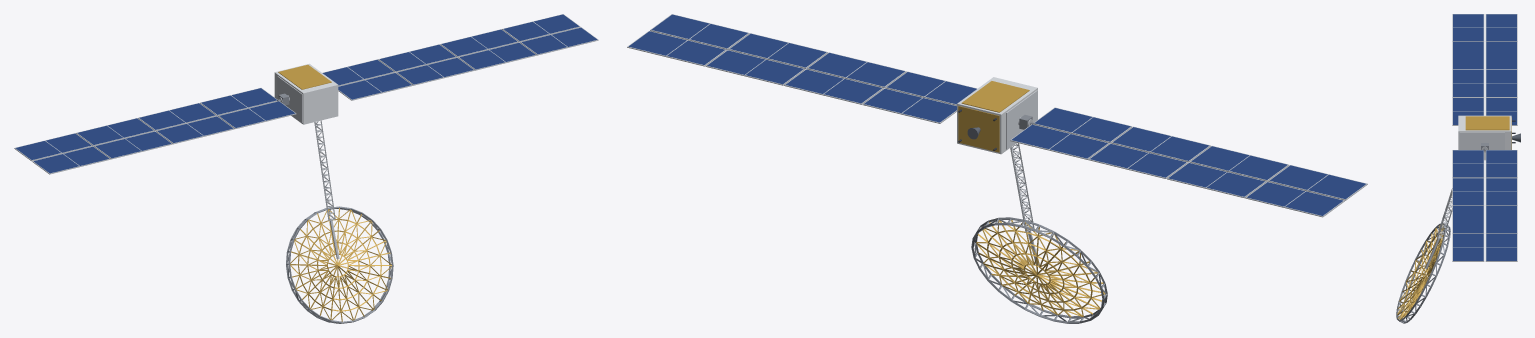
File: viasat-3.glb
3 views of the same model, side by side, from view 1: azimuth 30°, elevation 25°; view 2: azimuth 150°, elevation 25°; view 3: azimuth 270°, elevation 25° (orthographic). The views are drawn at different scales.
Visible parts, largest first — view 1: solar-panel, body, foil; view 2: solar-panel, body, foil; view 3: solar-panel, body, foil.
Part boxes in pixels (x1,y1,x2,y2): solar-panel: (15,14,597,173); body: (14,14,598,323); foil: (278,64,391,321); solar-panel: (629,14,1365,215); body: (627,14,1367,323); foil: (958,81,1105,317); solar-panel: (1453,14,1516,260); body: (1396,14,1520,323); foil: (1397,116,1511,319).
Size of the model in its own units: 43.9 by 16.17 by 9.35.
